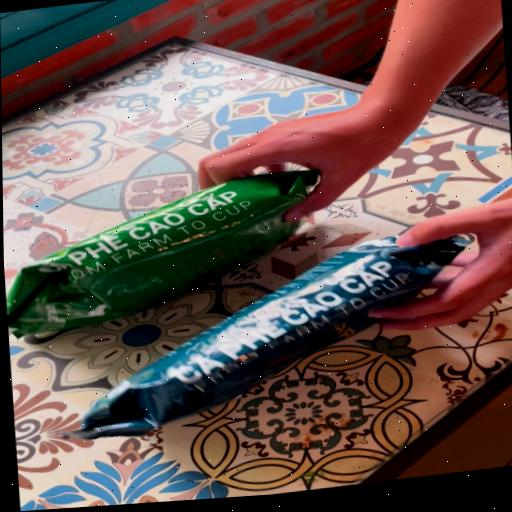cafe_hat: (68, 236, 469, 439)
cafe_xay: (6, 170, 318, 338)
